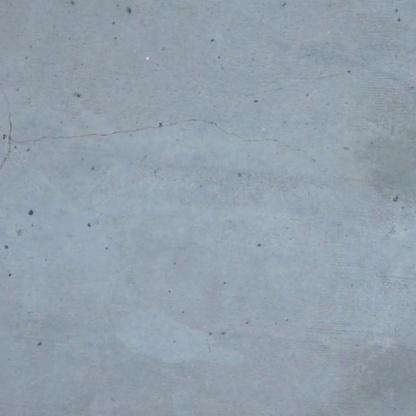Cracks: (0, 60, 373, 213)
